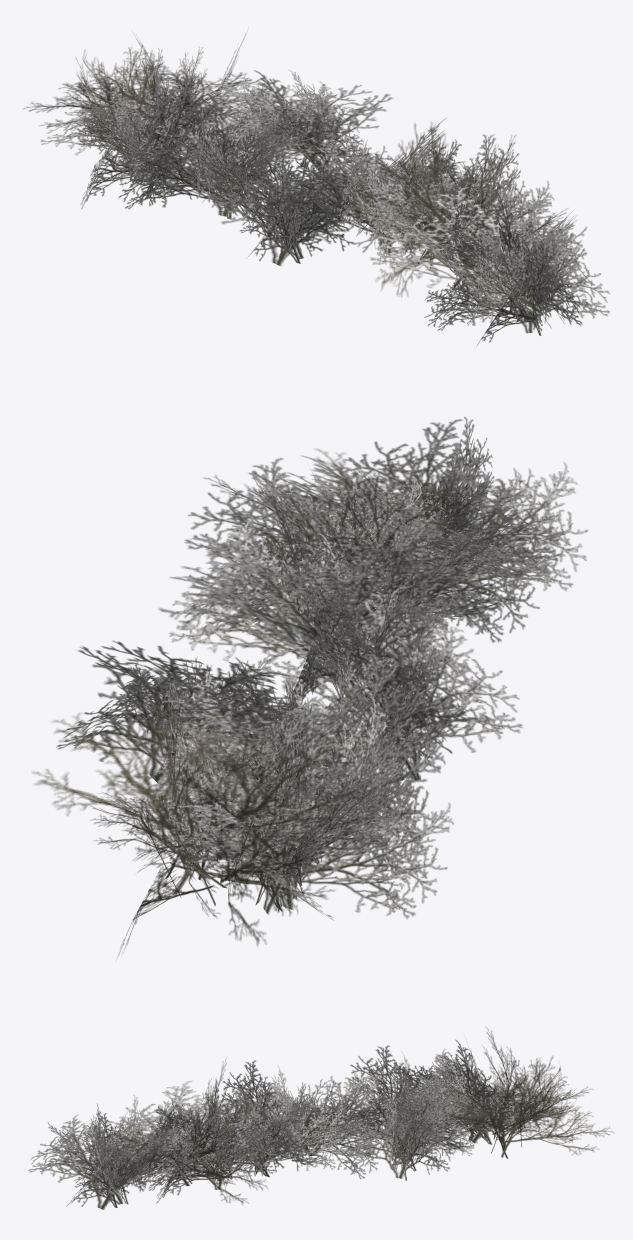
File: whedge_b.glb
The picture shows the model from 3 angles, top to bottom: view 1: azimuth 30°, elevation 25°; view 2: azimuth 150°, elevation 25°; view 3: azimuth 270°, elevation 25°; orthographic projection. The views are drawn at different scales.
Parts seen in each view (by area): view 1: Winter_Trees_Branches.004; view 2: Winter_Trees_Branches.004; view 3: Winter_Trees_Branches.004.
Boxes of the visible parts, x1,y1,x2,y2 form: Winter_Trees_Branches.004: (23, 34, 609, 346); Winter_Trees_Branches.004: (32, 417, 587, 957); Winter_Trees_Branches.004: (28, 1027, 613, 1209).
Bounding box in the file's own units: 16.08 × 7.59 × 29.93.
1 material, 1 textured.
